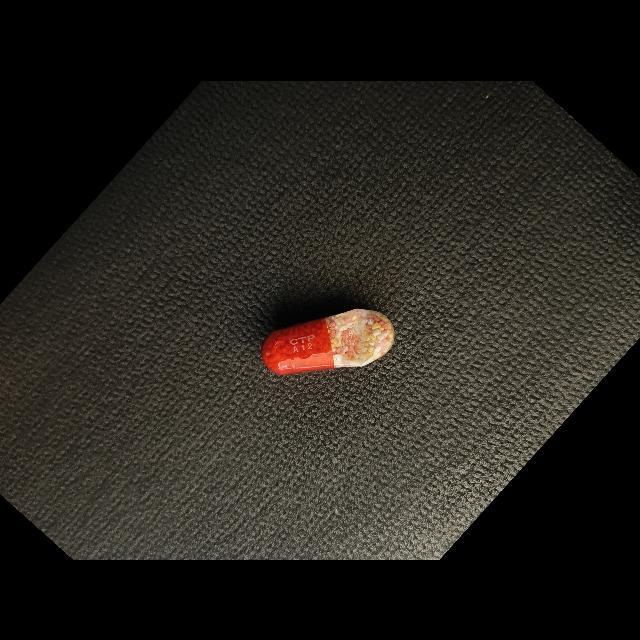Defective Capsule: (261, 308, 395, 374)
